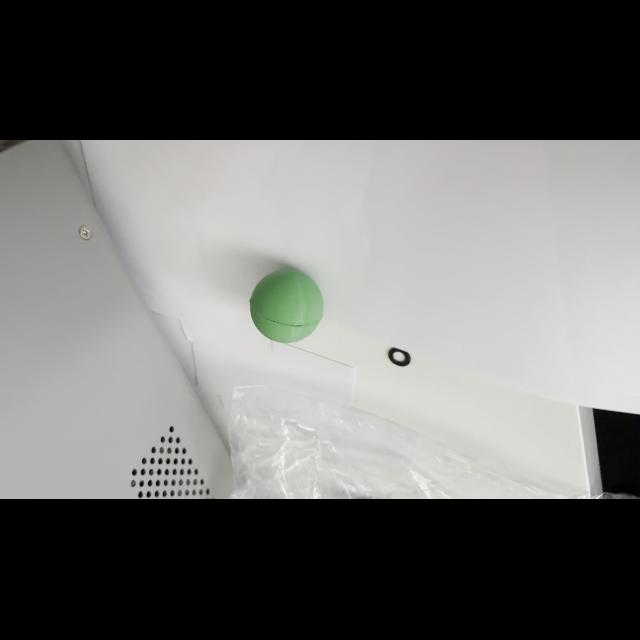objects: (246, 263, 326, 345)
